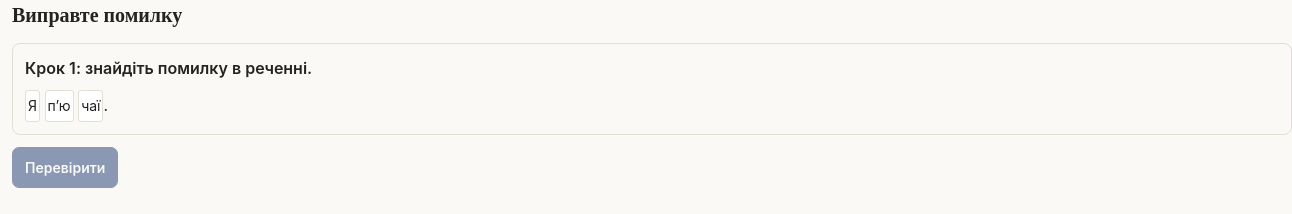
Test: student activity player (#410) › matches correction triples after Unicode, apostrophe, and whitespace normalization
This screenshot has width=1292, height=214.
Click the button "чаї" at (91,106), box [78,90,103,122]
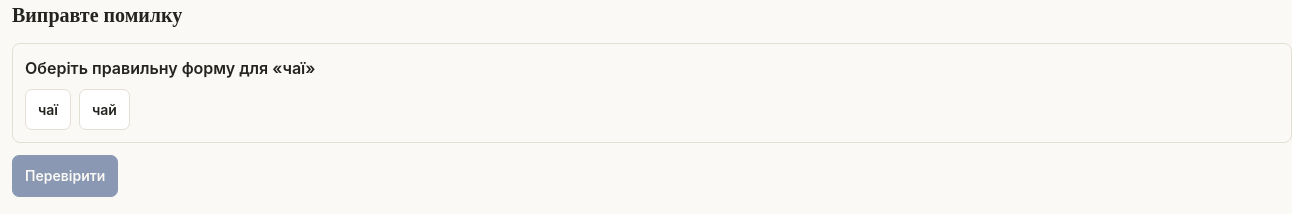
expect the text "Оберіть правильну форму для «чаї»" is shown: met, box [25,58,315,78]
